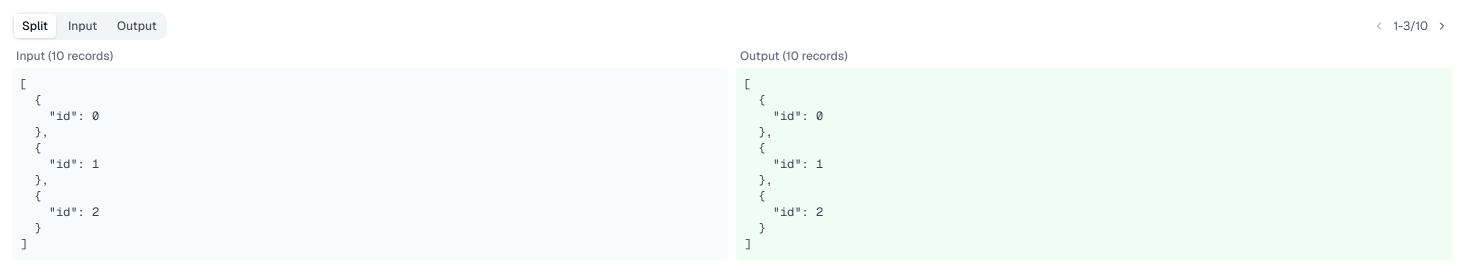
Test case: PreviewPanel › should handle pagination for large datasets
This screenshot has width=1464, height=277.
Expected: the text "1-3/10" is shown, [1394,18,1428,34]
Click the button named "next": click(1442, 26) [1432,16,1452,36]
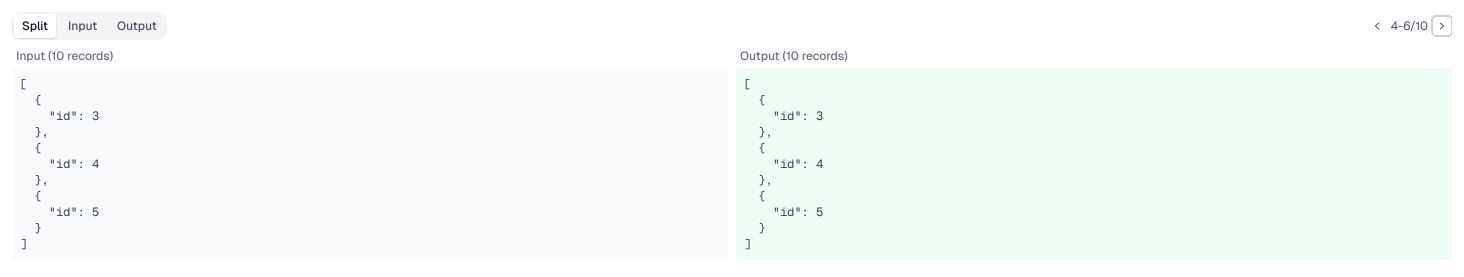
Expected: the text "4-6/10" is shown, [1391,18,1428,34]
